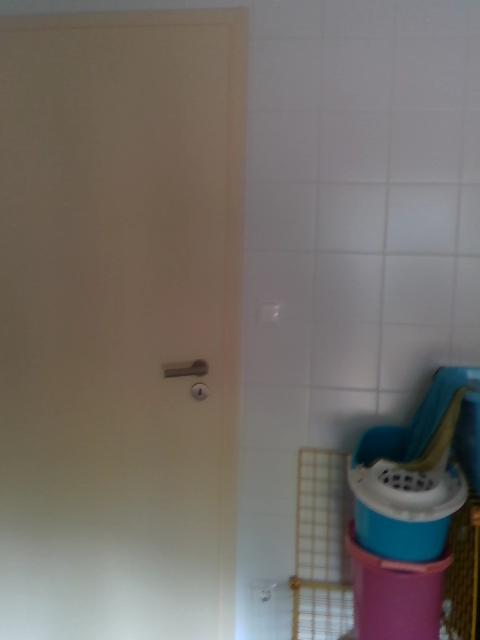door: (0, 9, 246, 639)
